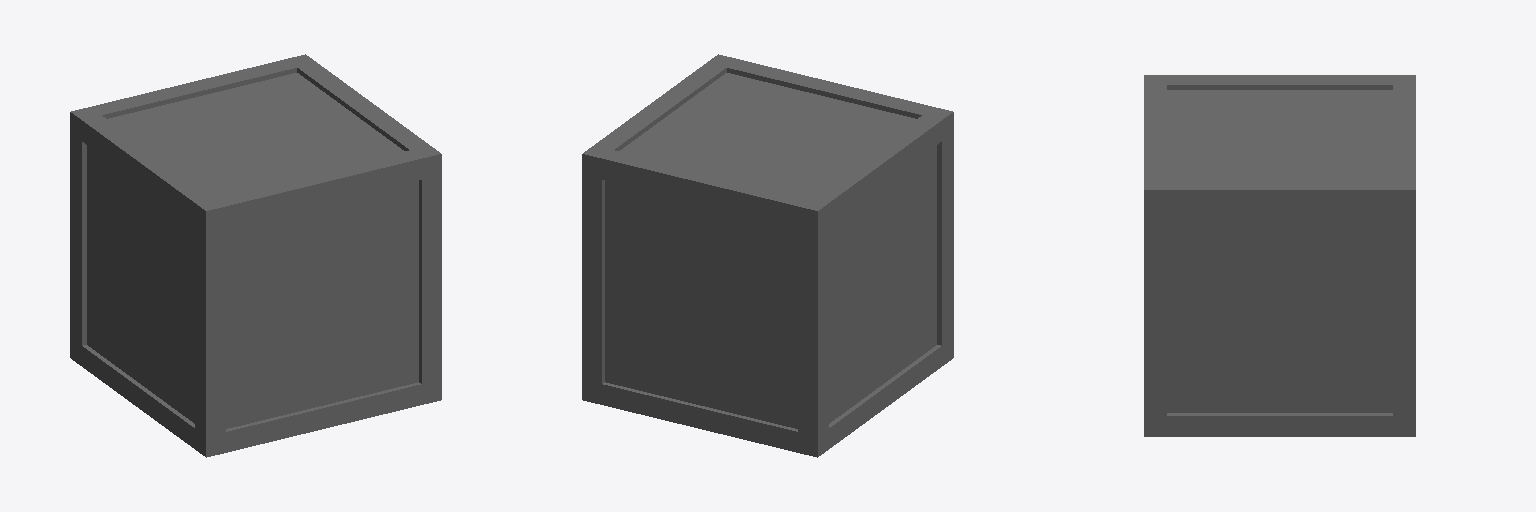
File: crate.obj
The picture shows the model from 3 angles: view 1: azimuth 30°, elevation 25°; view 2: azimuth 150°, elevation 25°; view 3: azimuth 270°, elevation 25°; orthographic projection.
Parts seen in each view (by area): view 1: Wood_container1; view 2: Wood_container1; view 3: Wood_container1.
Boxes of the visible parts, x1,y1,x2,y2 form: Wood_container1: [70, 54, 441, 457]; Wood_container1: [582, 54, 953, 457]; Wood_container1: [1144, 75, 1415, 436].
Bounding box in the file's own units: 200 × 200 × 200.